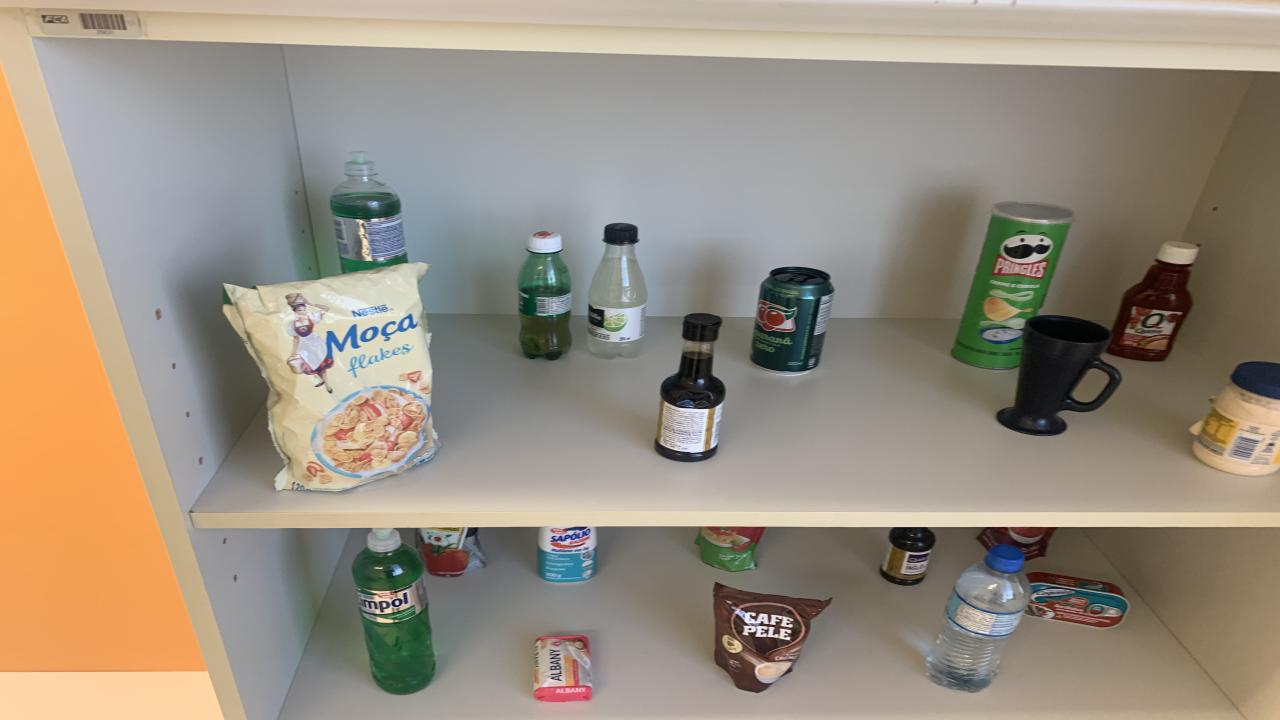Cleaner-Cleanup_Items: (538, 527, 598, 583)
Coffee-Pantry_Items: (712, 583, 830, 692)
Detergent-Cleanup_Items: (352, 529, 435, 694), (330, 152, 408, 272)
English_Sauce-Pantry_Items: (655, 313, 725, 461), (882, 527, 935, 583)
Flakes-Snacks: (225, 262, 438, 491)
Guarana-Drinks: (518, 232, 572, 360)
Guarana_Can-Drinks: (750, 266, 835, 375)
Ketchup-Pantry_Items: (1108, 242, 1198, 362)
Mayonnaise-Pantry_Items: (1192, 362, 1280, 476)
Pringles-Snacks: (952, 202, 1075, 369)
Soap-Cleanup_Items: (535, 636, 592, 701)
Soda-Drinks: (588, 223, 648, 358)
Tomato_Sauce-Pantry_Items: (415, 527, 485, 578), (695, 527, 765, 572), (978, 527, 1055, 561)
Tuna_Can-Pantry_Items: (1025, 572, 1130, 628)
Water_Bottle-Drinks: (925, 544, 1030, 692)
